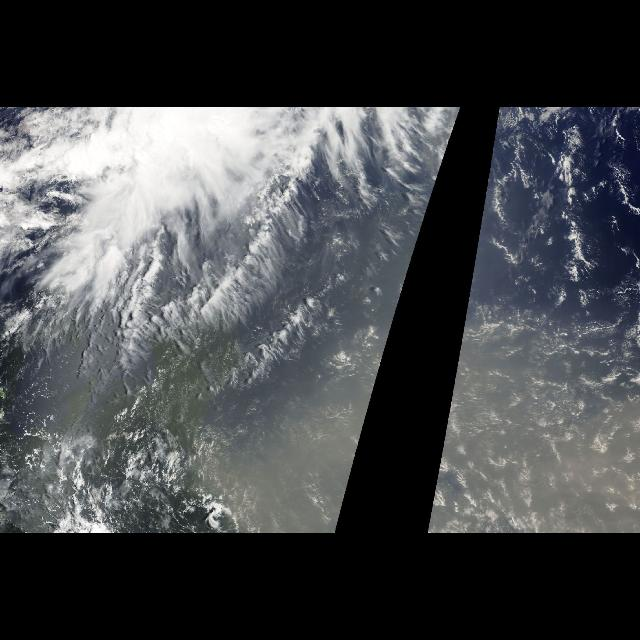Fish: (154, 110, 410, 390)
Gravel: (433, 292, 632, 530), (555, 138, 611, 276)
